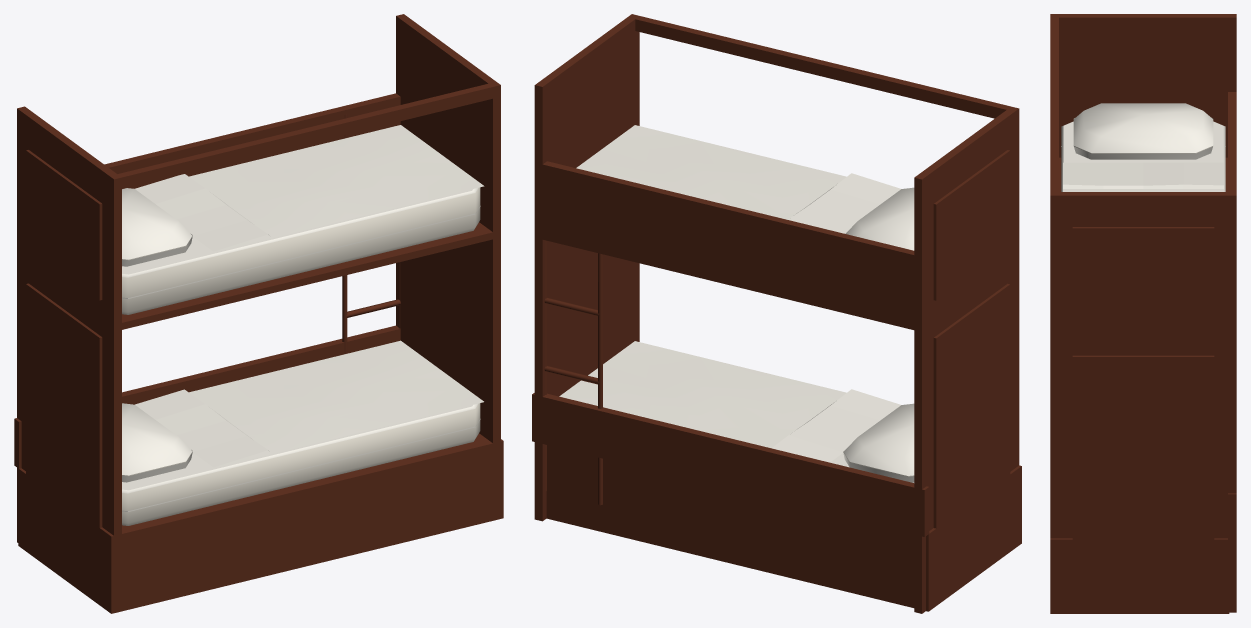
File: parametric-sized-berth-double-l175-1st.glb
The picture shows the model from 3 angles, left to right: view 1: azimuth 30°, elevation 25°; view 2: azimuth 150°, elevation 25°; view 3: azimuth 270°, elevation 25°; orthographic projection. The views are drawn at different scales.
Visible parts, largest first — view 1: parametric-sized-berth-double-l175-1st; view 2: parametric-sized-berth-double-l175-1st; view 3: parametric-sized-berth-double-l175-1st.
Part boxes in pixels (box(x1,y1,x2,y2)): parametric-sized-berth-double-l175-1st: box(14, 14, 503, 613); parametric-sized-berth-double-l175-1st: box(532, 14, 1021, 613); parametric-sized-berth-double-l175-1st: box(1050, 14, 1236, 613).
Bounding box in the file's own units: 1.75 × 1.85 × 0.75.
